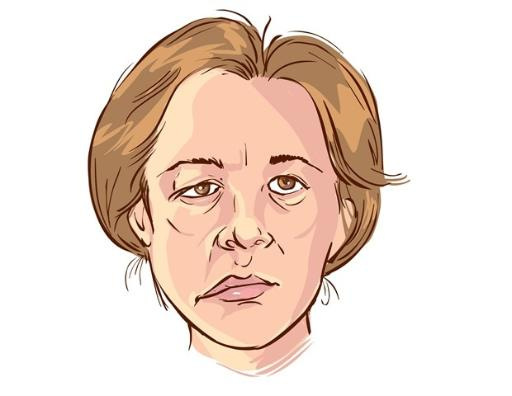left_eye: (261, 173, 312, 199)
left_lip_corner: (263, 281, 284, 290)
right_eye: (176, 181, 225, 199)
right_lip_corner: (196, 293, 212, 303)
